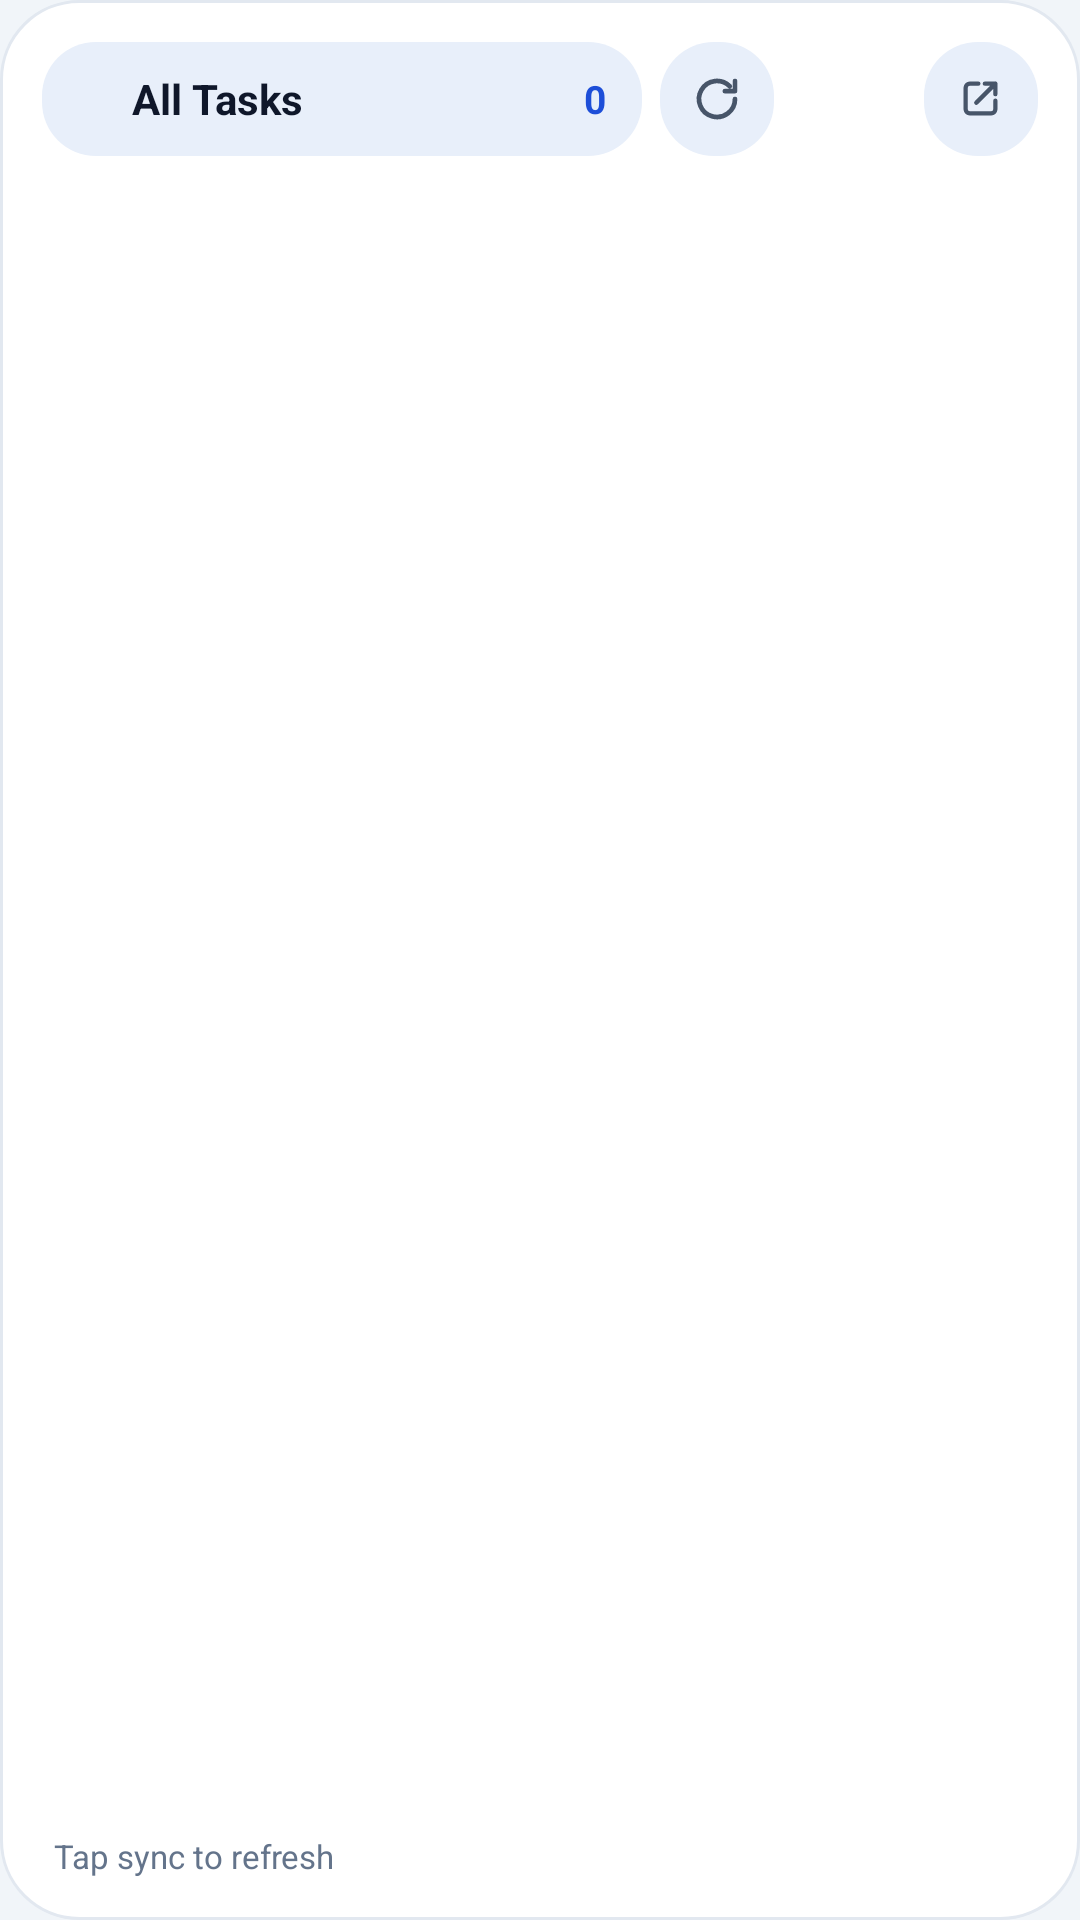

Where to tap for icons on this 1080w x 1920h app screen, as [x,y]:
widget open: [980,98]
widget sync: [717,99]
